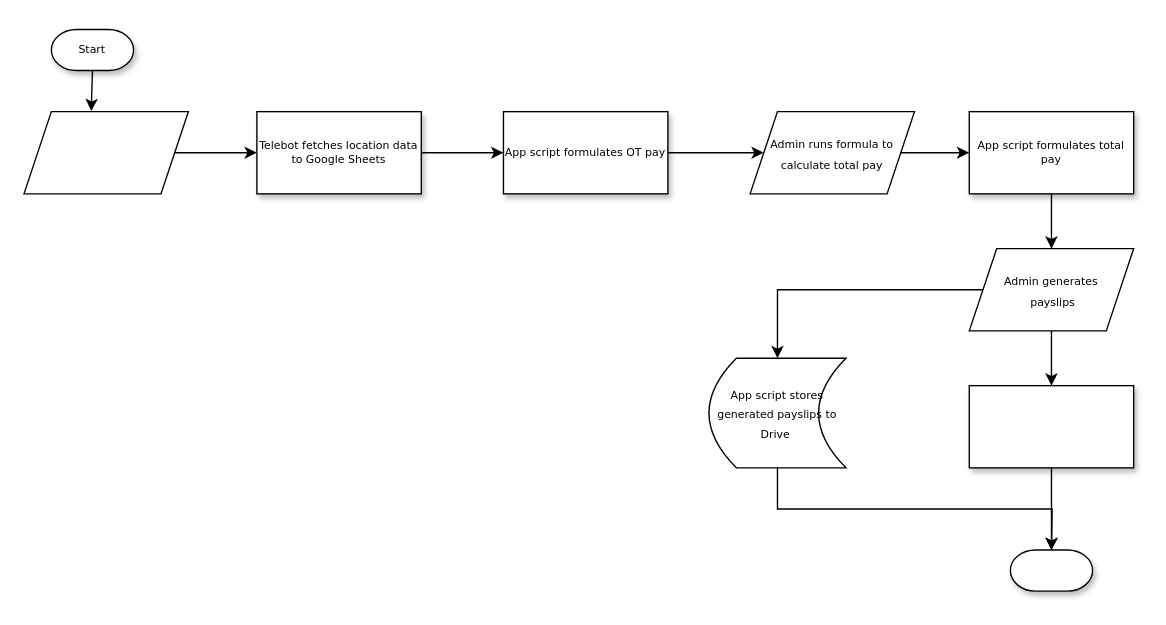
Image size: 1166x625. Some labels were removed from this diagram. Here are the shapes that lost their labels. From the top down, the centre of each, then its label:
the point at 105,152: User sends live location in Tele
the point at 1052,428: App script sends payslips to users' email accounts
the point at 1052,572: End
